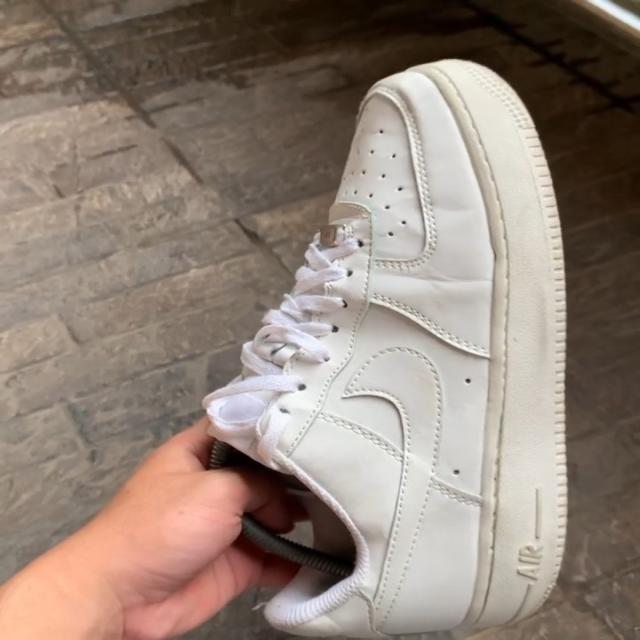nike fake air force: (194, 56, 571, 640)
